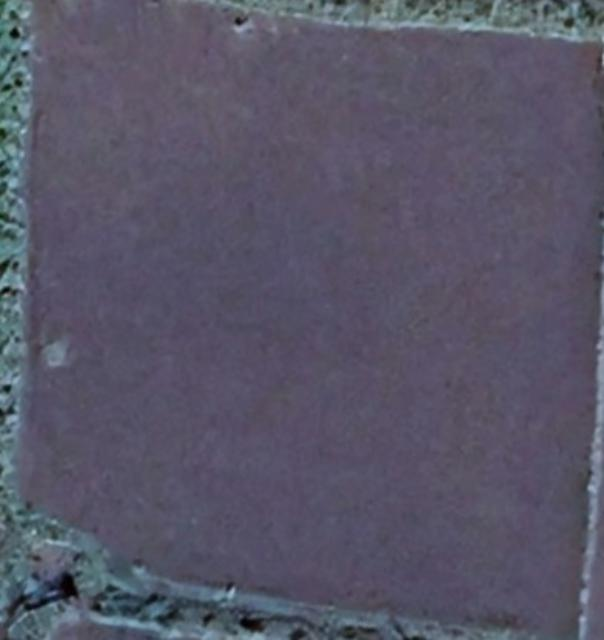Farms: (16, 0, 603, 638)
